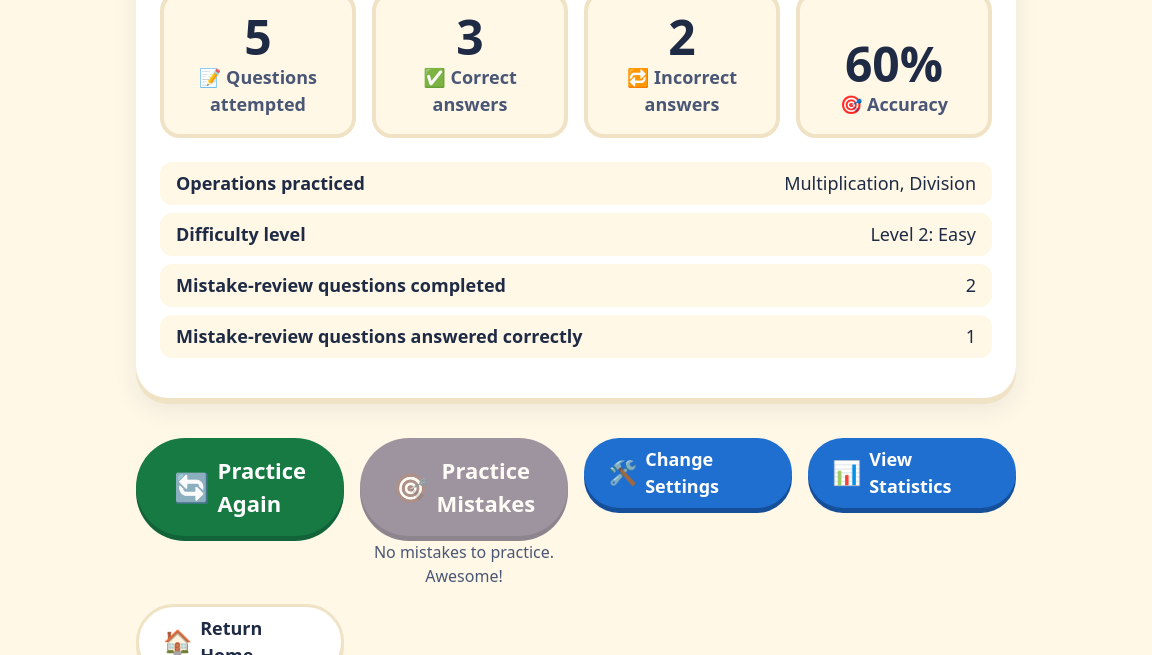
Test: SessionSummaryPage › Practice Again starts a new session with the same options
This screenshot has width=1152, height=655.
(page scrolled)
Step 1. Click the link "🔄 Practice Again" → {"x": 240, "y": 487}, box top-left (136, 438), bottom-right (344, 536)
(page scrolled)
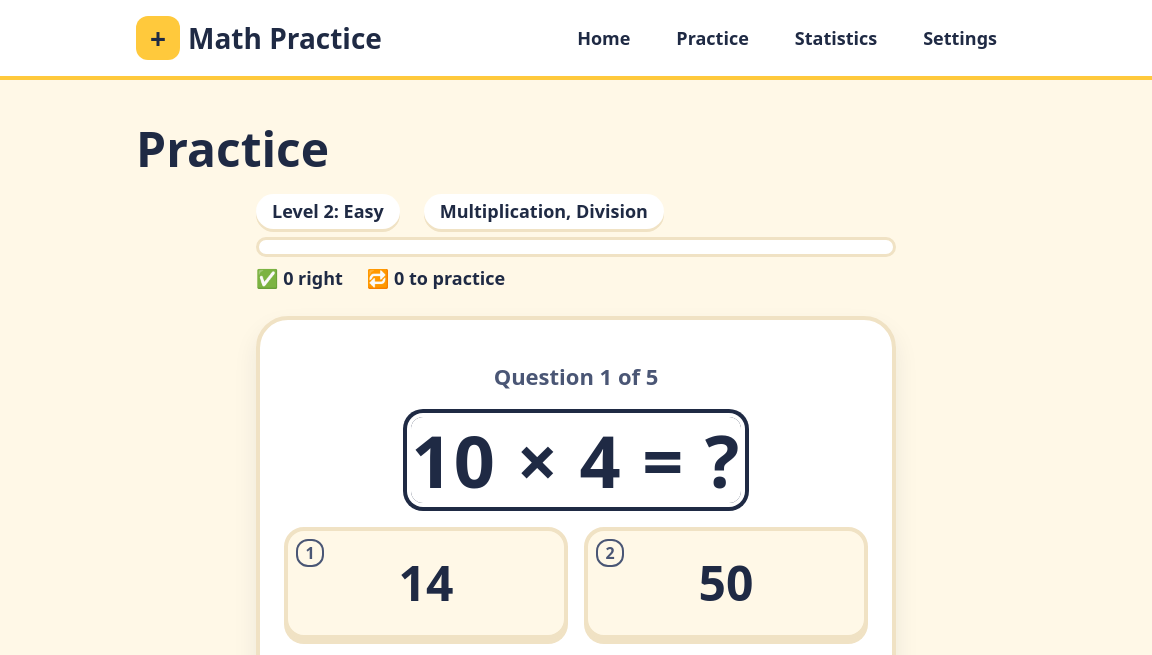
Expected: the text "Level 2: Easy" is shown, top-left (256, 194), bottom-right (400, 229)
Now the heading "Practice" is shown, box top-left (136, 116), bottom-right (329, 181)
Now the text "Question 1 of 5" is shown, box top-left (494, 360), bottom-right (658, 393)
